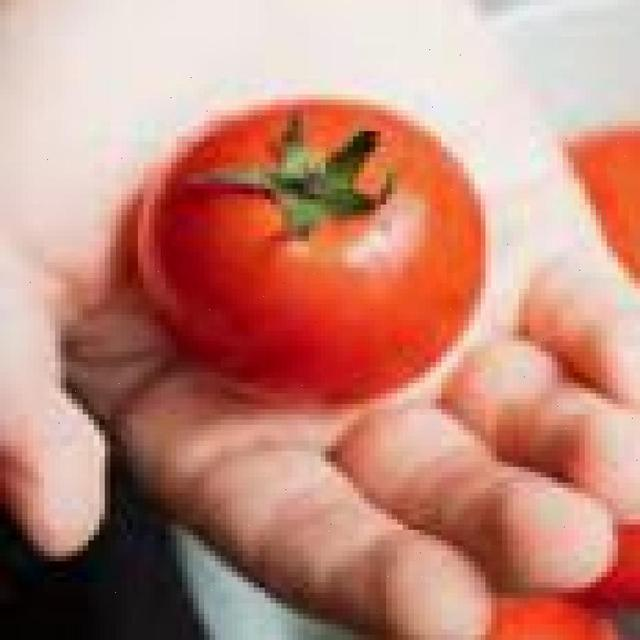Healthy Fruit: (84, 53, 336, 263)
